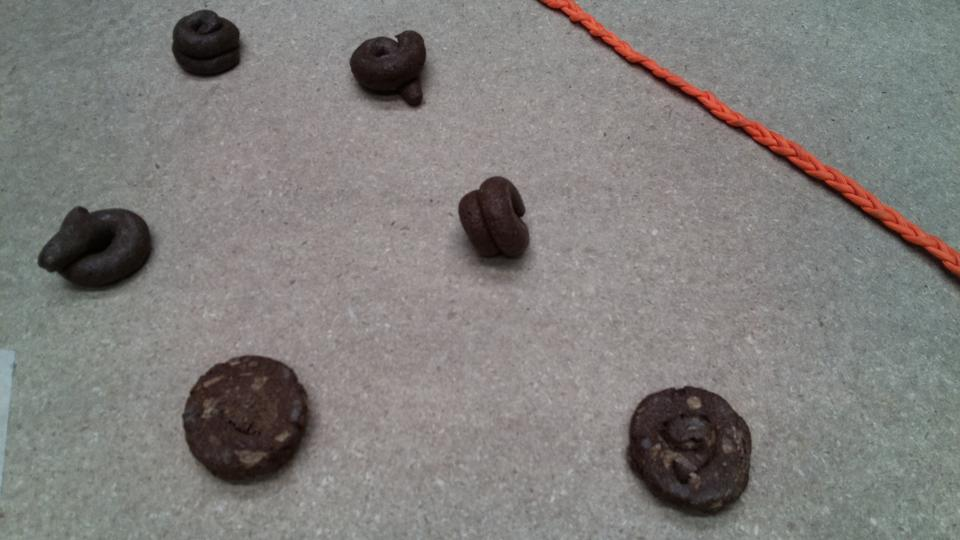poop: (631, 386, 751, 512), (184, 358, 308, 479), (45, 206, 151, 290), (454, 176, 529, 262), (354, 37, 428, 107), (173, 10, 242, 76)
rope: (828, 176, 877, 213), (918, 234, 960, 275), (739, 123, 789, 151), (694, 93, 739, 124), (875, 207, 917, 239), (540, 1, 594, 24), (615, 47, 656, 74), (789, 151, 827, 179), (656, 70, 694, 94), (586, 24, 615, 47)
